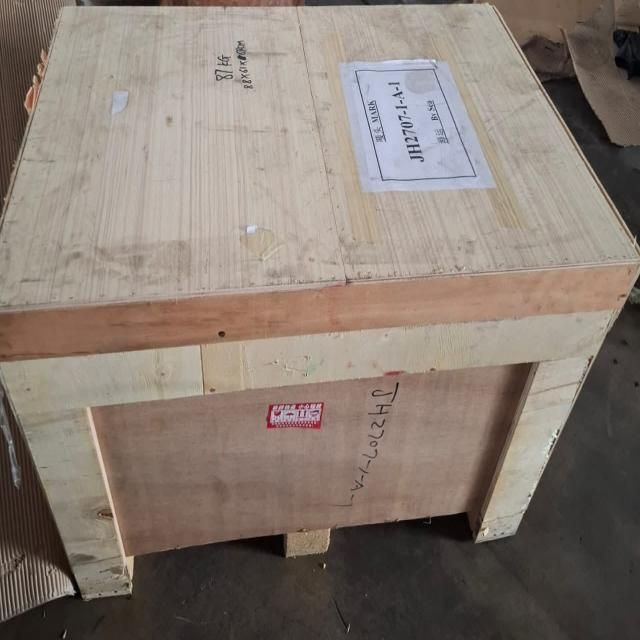export_mark_label: (336, 41, 511, 226)
fragile_label: (267, 395, 283, 427)
keep_dry_label: (282, 400, 295, 425)
this_side_up_label: (296, 396, 312, 438)
wooden_box: (0, 1, 638, 573)
